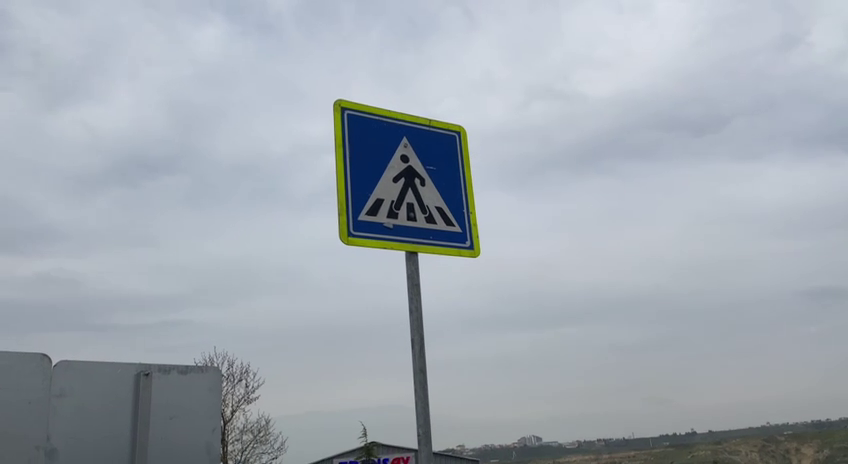pedestrianCrossing: (331, 97, 483, 261)
